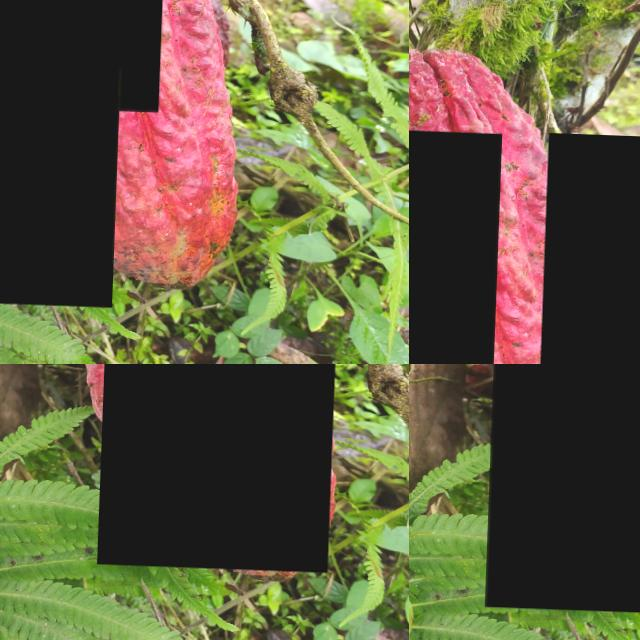Monilia: (0, 58, 123, 304), (409, 123, 503, 364)
Sana: (101, 364, 342, 569), (489, 364, 640, 613), (542, 130, 640, 364), (0, 0, 171, 109)
